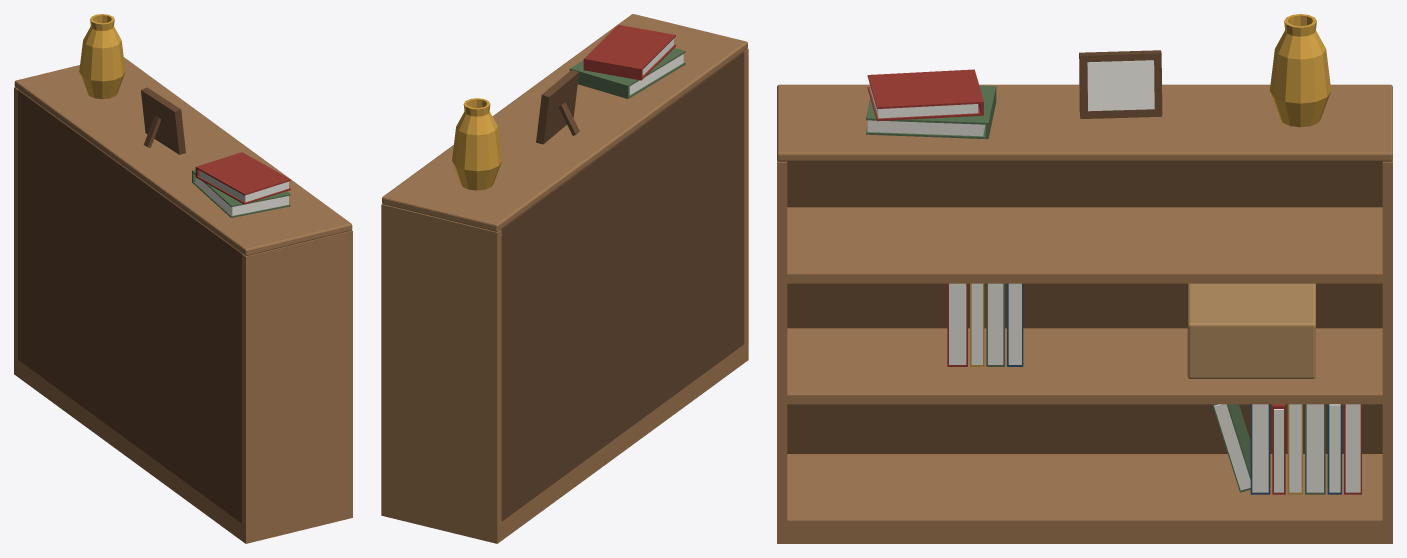
The model's file is Librero.fbx.
3 views of the same model, side by side, from view 1: azimuth 30°, elevation 25°; view 2: azimuth 150°, elevation 25°; view 3: azimuth 270°, elevation 25° (orthographic). The views are drawn at different scales.
Parts seen in each view (by area): view 1: Deco_Estanteria_Objetos; view 2: Deco_Estanteria_Objetos; view 3: Deco_Estanteria_Objetos.
Boxes of the visible parts, bbox=[...] form: Deco_Estanteria_Objetos: bbox=[14, 14, 352, 543]; Deco_Estanteria_Objetos: bbox=[381, 14, 748, 543]; Deco_Estanteria_Objetos: bbox=[777, 14, 1392, 543].
Bounding box in the file's own units: 0.32 × 1.05 × 1.2.
